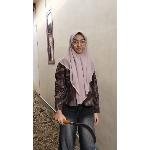Celurit: (49, 113, 100, 145)
